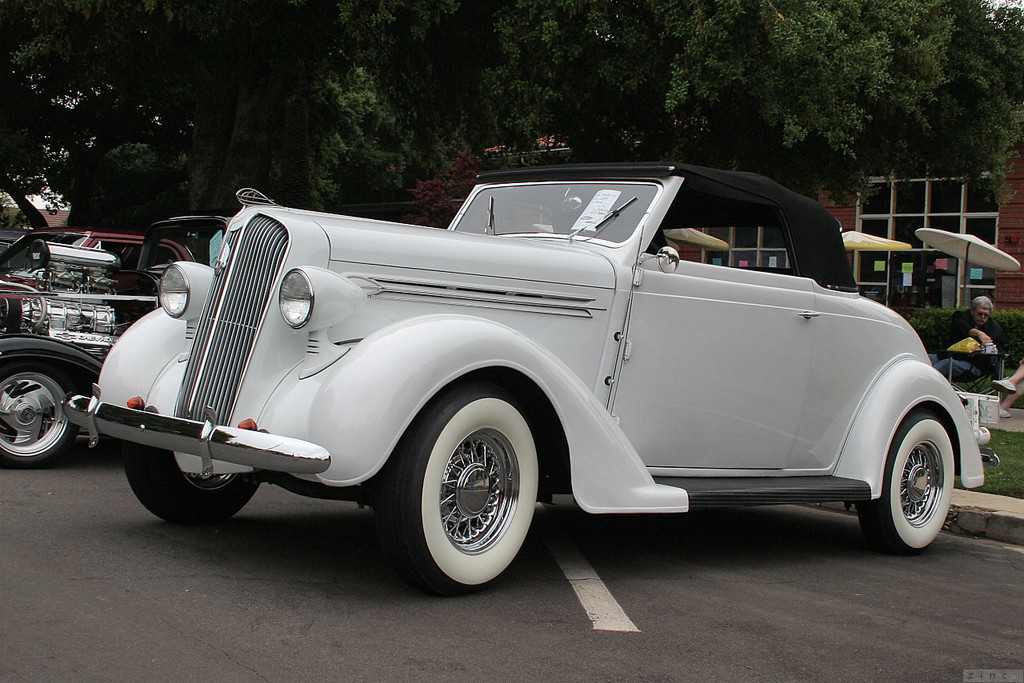cars: (62, 162, 1009, 592), (0, 217, 232, 472), (0, 222, 192, 300)
